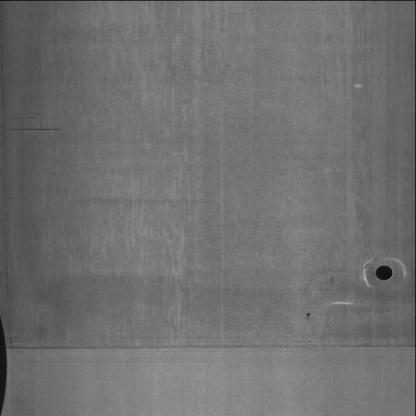punching_hole: (372, 259, 400, 288)
welding_line: (6, 331, 416, 358)
